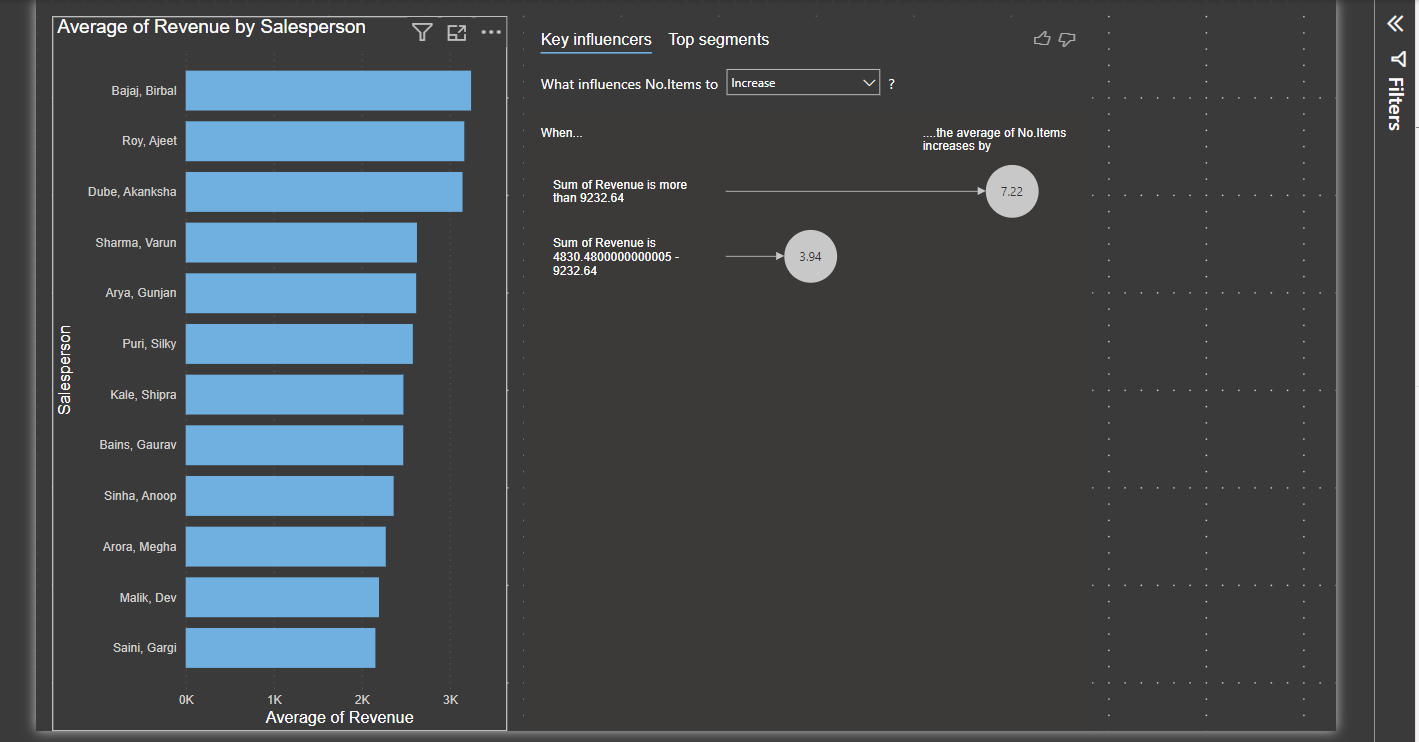

What the dashboard file says about the page in this screenshot:
{"tool":"powerbi","page":{"name":"Page 2","canvas":[1280,720],"ordinal":1},"visuals":[{"type":"clusteredBarChart","fields":{"Category":["Raw_Data.Salesperson"],"Y":["Raw_Data.Revenue"]},"box":[16,16,448,704],"z":0},{"type":"keyDriversVisual","fields":{"Target":["Raw_Data.No.Items"],"ExplainBy":["Raw_Data.Revenue"]},"box":[480,16,560,704],"z":1}]}

Visuals, with their boxes on the page's 1280x720 design canvas (x1, y1, x2, y2). These are canvas units, not pixel positions in the 1419x742 screenshot, which may show the page scaled, cropped or inside an application window:
clusteredBarChart - Raw_Data.Salesperson x Raw_Data.Revenue: (16,16,464,720)
keyDriversVisual - Raw_Data.No.Items x Raw_Data.Revenue: (480,16,1040,720)
